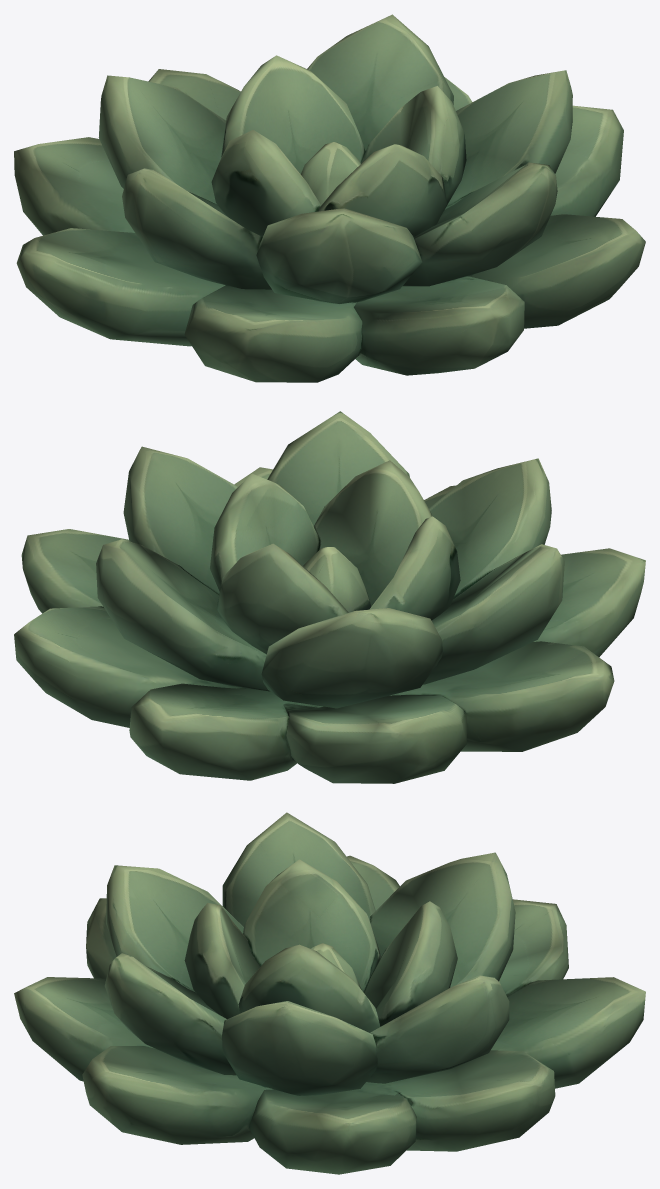
Rendered from Succulent.fbx.
3 renders of one model, top to bottom at view 1: azimuth 30°, elevation 25°; view 2: azimuth 150°, elevation 25°; view 3: azimuth 270°, elevation 25°, orthographic. The views are drawn at different scales.
Visible parts, largest first — view 1: mesh_node; view 2: mesh_node; view 3: mesh_node.
Boxes of the visible parts, x1,y1,x2,y2 form: mesh_node: (14, 14, 645, 382); mesh_node: (14, 411, 645, 783); mesh_node: (14, 812, 645, 1174).
Bounding box in the file's own units: 100 × 33.2 × 99.41.
1 material, 1 textured.
